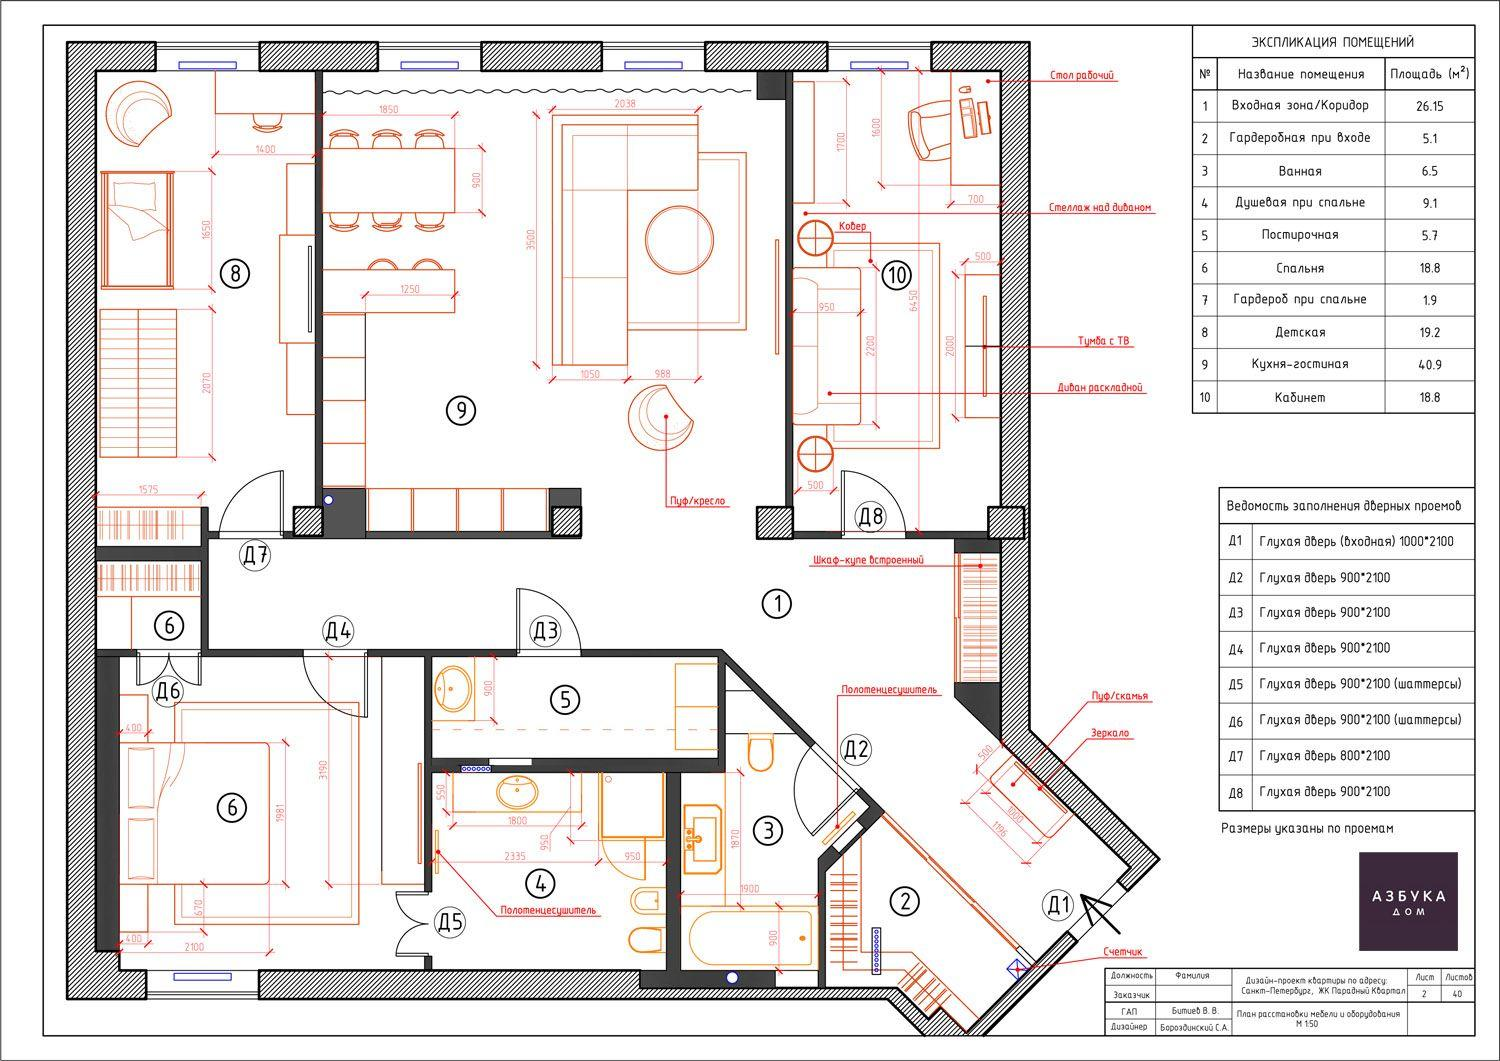bathroom: (680, 660, 873, 973), (431, 773, 667, 971)
bedroom: (96, 561, 427, 973)
children_room: (96, 70, 314, 547)
hallway: (209, 536, 1131, 961)
home_office: (794, 70, 1006, 531)
living_room: (324, 70, 790, 537)
utility_room: (431, 653, 720, 760)
walk_in_closet: (824, 816, 1033, 1030)
